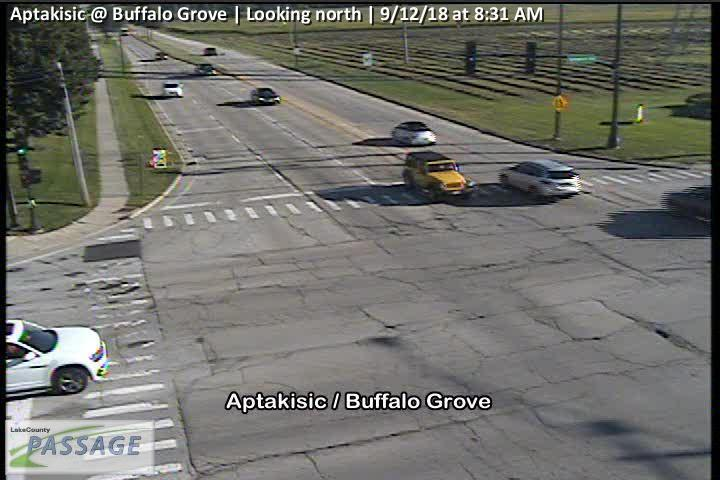SUV: (400, 152, 474, 202), (497, 160, 582, 198)
Sedan: (4, 319, 111, 399), (662, 184, 712, 222), (392, 121, 437, 145), (250, 87, 280, 104), (162, 82, 184, 97), (195, 64, 216, 75), (204, 46, 217, 54), (119, 28, 128, 35)
